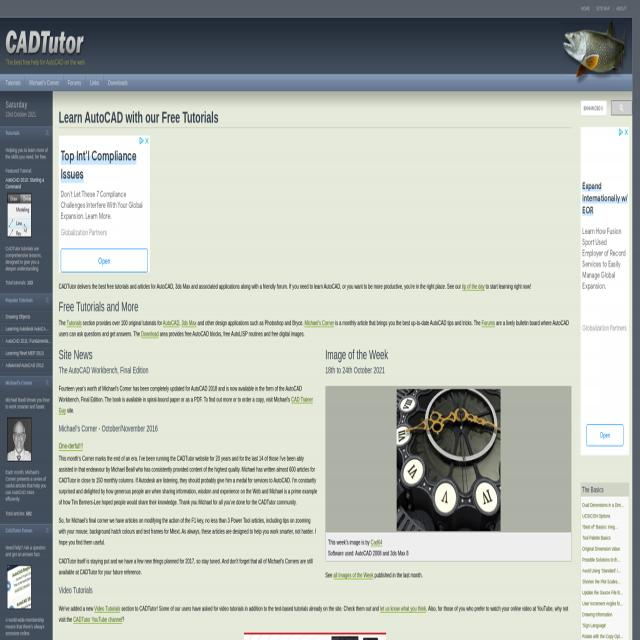button: (6, 30, 86, 67), (61, 250, 148, 272), (8, 193, 32, 237), (8, 418, 32, 462), (8, 565, 32, 609), (587, 425, 624, 446), (611, 101, 632, 115), (618, 127, 624, 138), (624, 126, 629, 138), (145, 135, 150, 146), (138, 136, 143, 146)
field: (581, 102, 607, 116)
